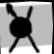not correct: (1, 0, 42, 54)
